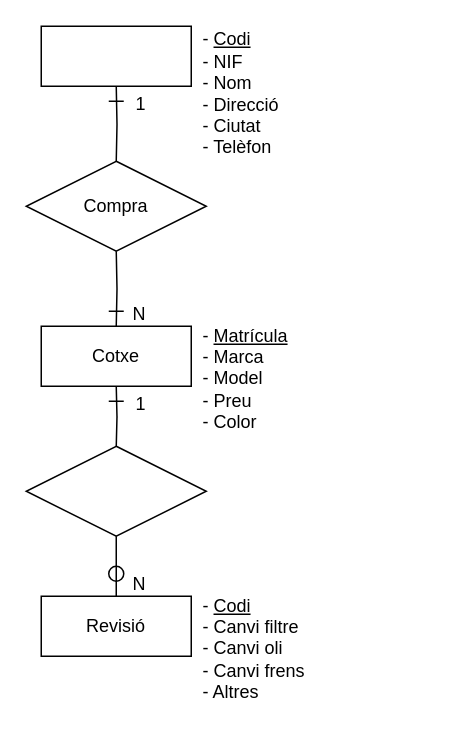
Image size: 449x729. Some labels were removed from this diagram. Here are the shapes that lost their labels. From the top down, the centre of each, then its label:
At point 115,55: "Client".
At point 115,490: "Realitza".
